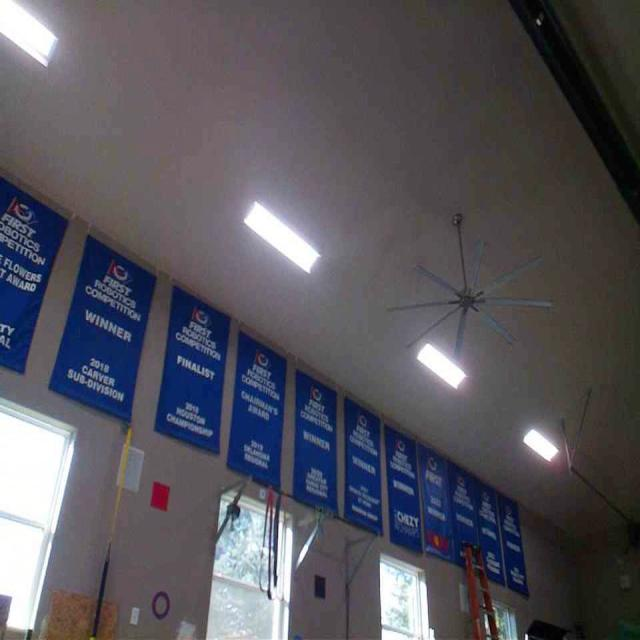ring_purple: (152, 590, 172, 618)
square_black: (311, 572, 327, 598)
square_red: (148, 481, 171, 509)
